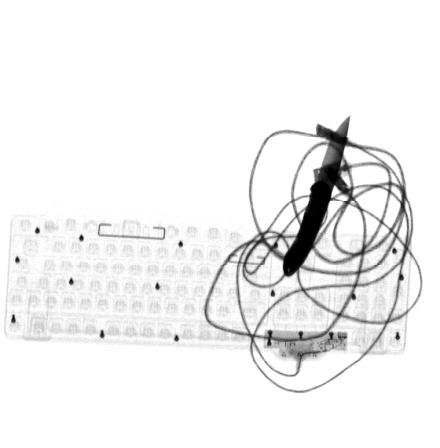Knife: (283, 113, 351, 278)
